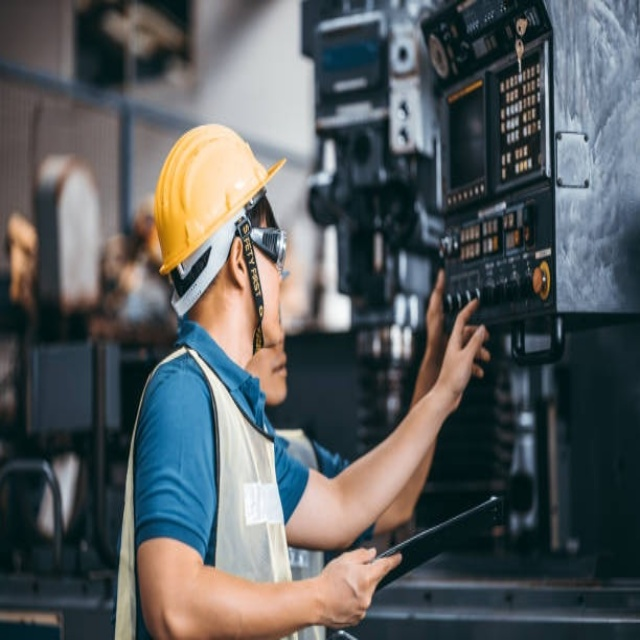Gafas: (246, 224, 289, 278)
Sin_guantes: (316, 545, 404, 631), (441, 295, 488, 406)
Sin_mascara: (257, 339, 289, 403)
